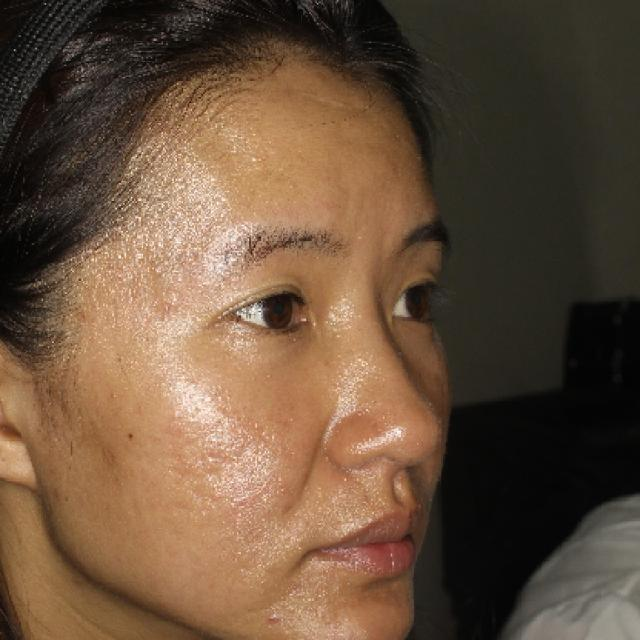Acne: (260, 605, 289, 632)
Blackheads: (116, 423, 144, 448)
